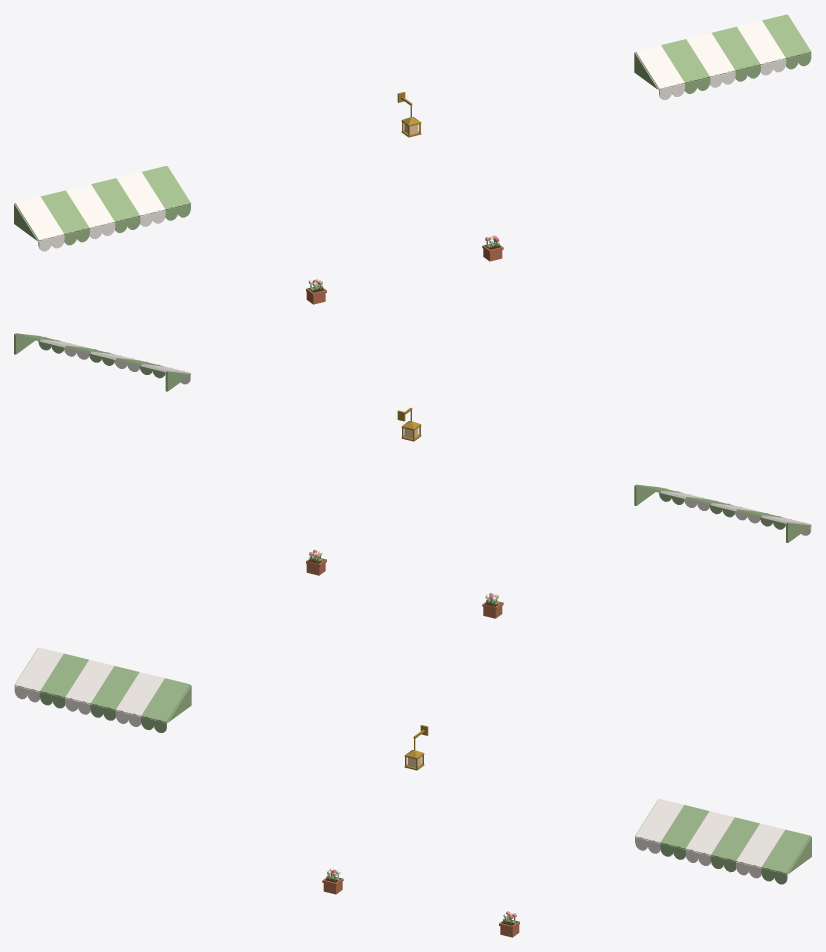
File: CatCafe_Plot_ThemeGarden_60x46.fbx
3 renders of one model, top to bottom at view 1: azimuth 30°, elevation 25°; view 2: azimuth 150°, elevation 25°; view 3: azimuth 330°, elevation 25°, orthographic.
Parts seen in each view (by area): view 1: CatCafe_Plot_ThemeGarden_60x46_Awning, CatCafe_Plot_ThemeGarden_60x46; view 2: CatCafe_Plot_ThemeGarden_60x46_Awning, CatCafe_Plot_ThemeGarden_60x46; view 3: CatCafe_Plot_ThemeGarden_60x46_Awning, CatCafe_Plot_ThemeGarden_60x46.
Part boxes in pixels (x1,y1,x2,y2): CatCafe_Plot_ThemeGarden_60x46_Awning: (14,14,811,251); CatCafe_Plot_ThemeGarden_60x46: (306,92,503,304); CatCafe_Plot_ThemeGarden_60x46_Awning: (14,333,811,542); CatCafe_Plot_ThemeGarden_60x46: (306,407,503,618); CatCafe_Plot_ThemeGarden_60x46_Awning: (14,647,811,884); CatCafe_Plot_ThemeGarden_60x46: (322,725,519,937).
Size of the model in its own units: 56.15 by 12.75 by 3.09.
Materials: 1 (1 with a texture image).
